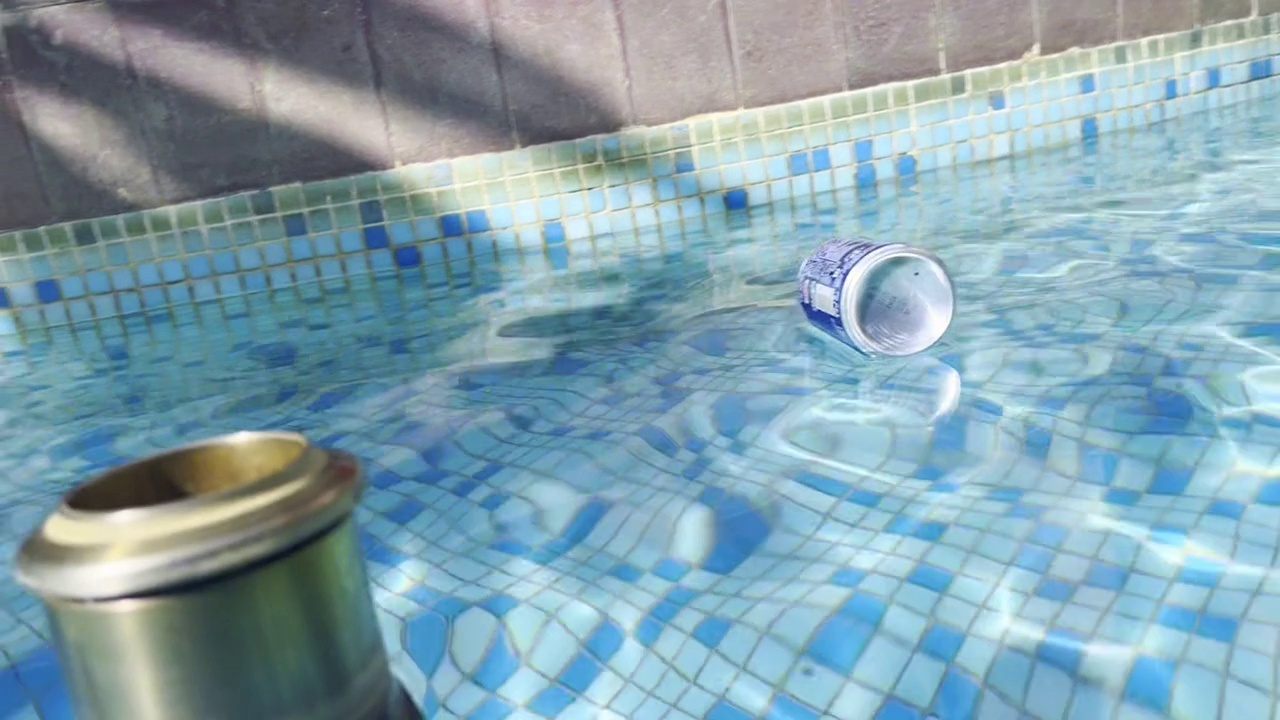debris: (778, 230, 964, 367)
